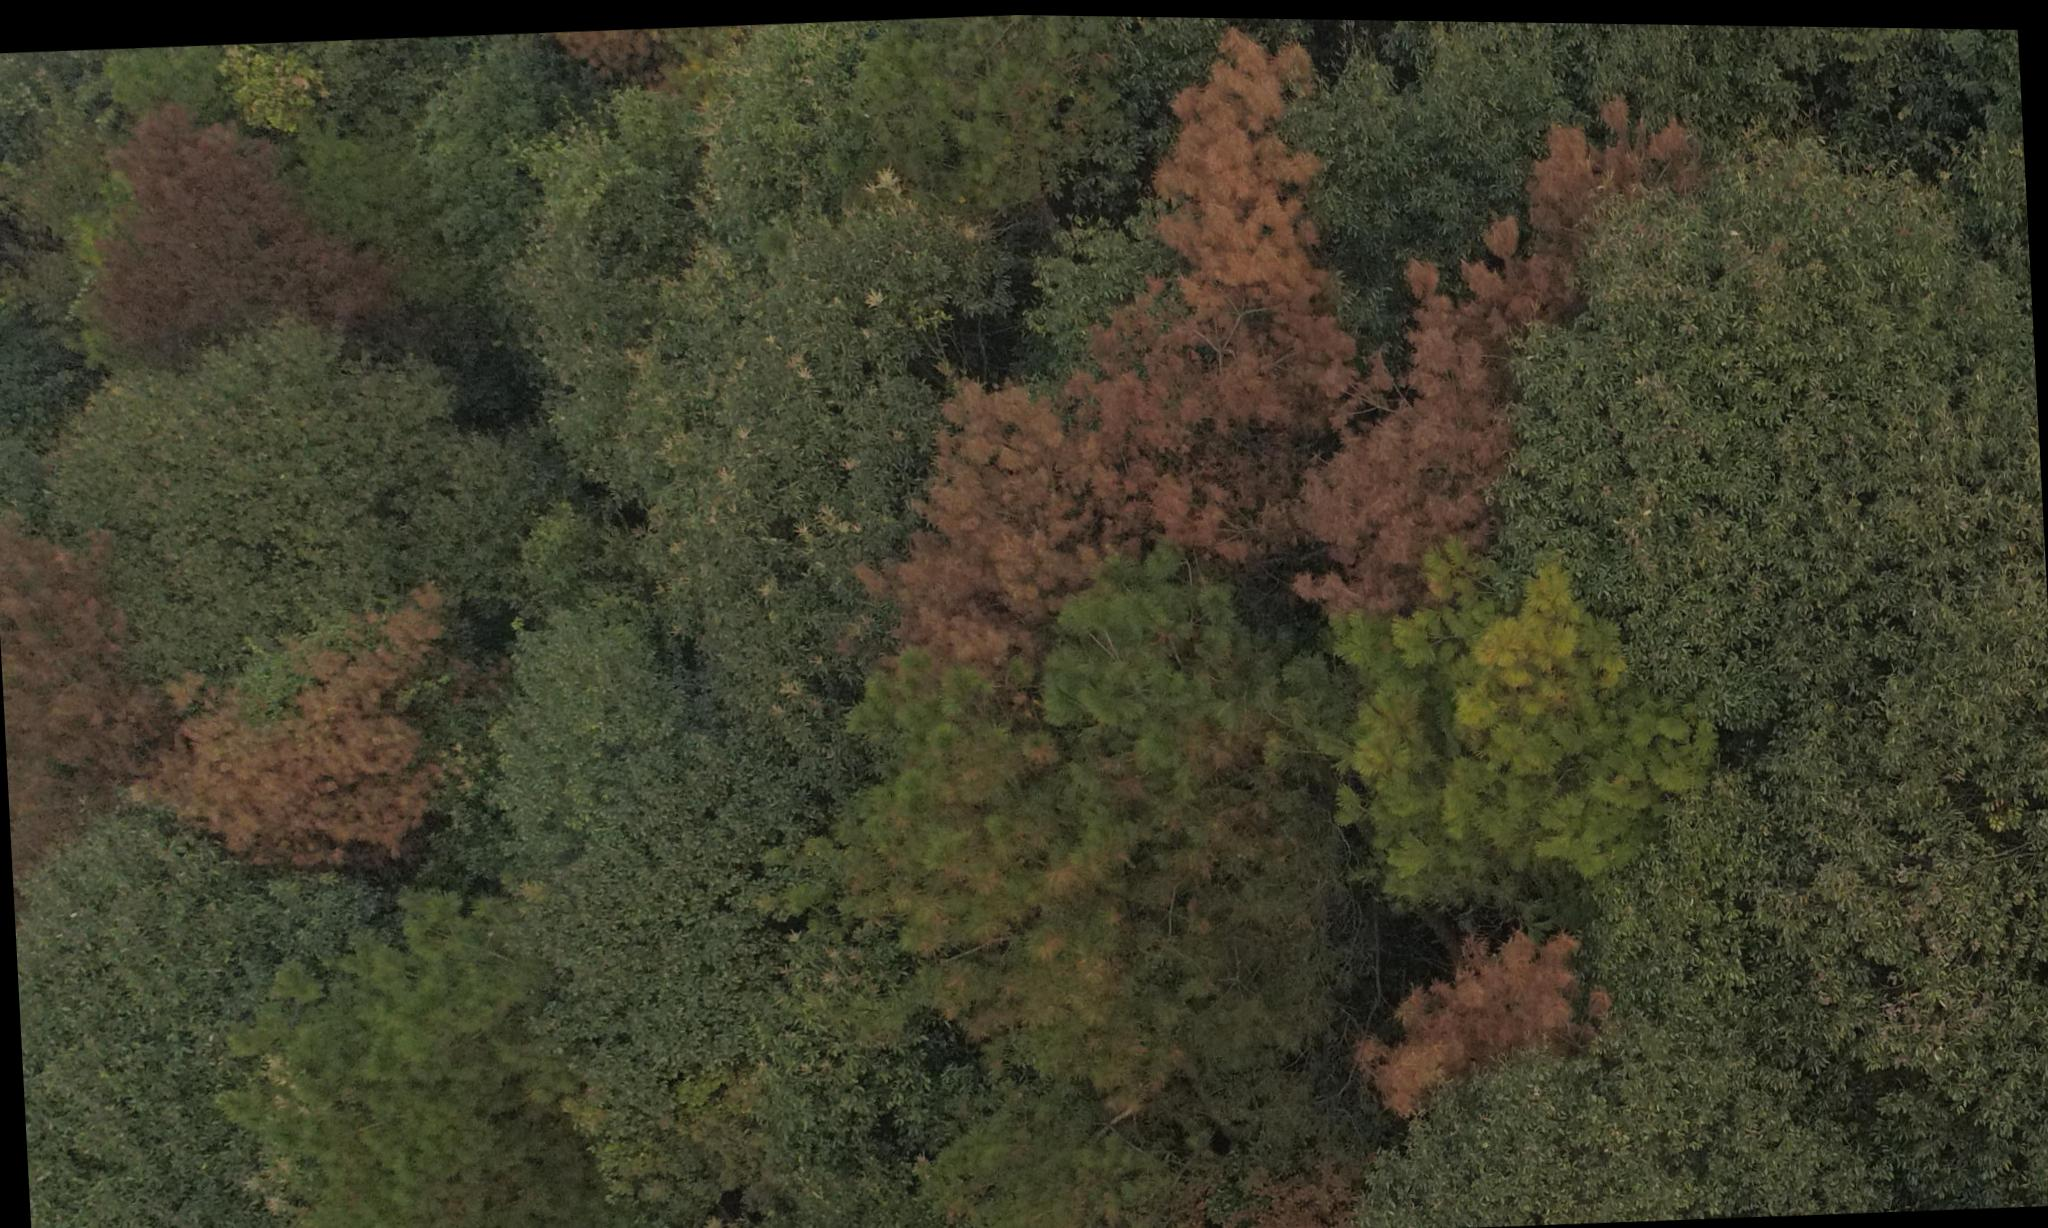heavy: (881, 18, 1365, 614), (1316, 104, 1729, 580), (136, 629, 453, 886), (1351, 918, 1608, 1115)
